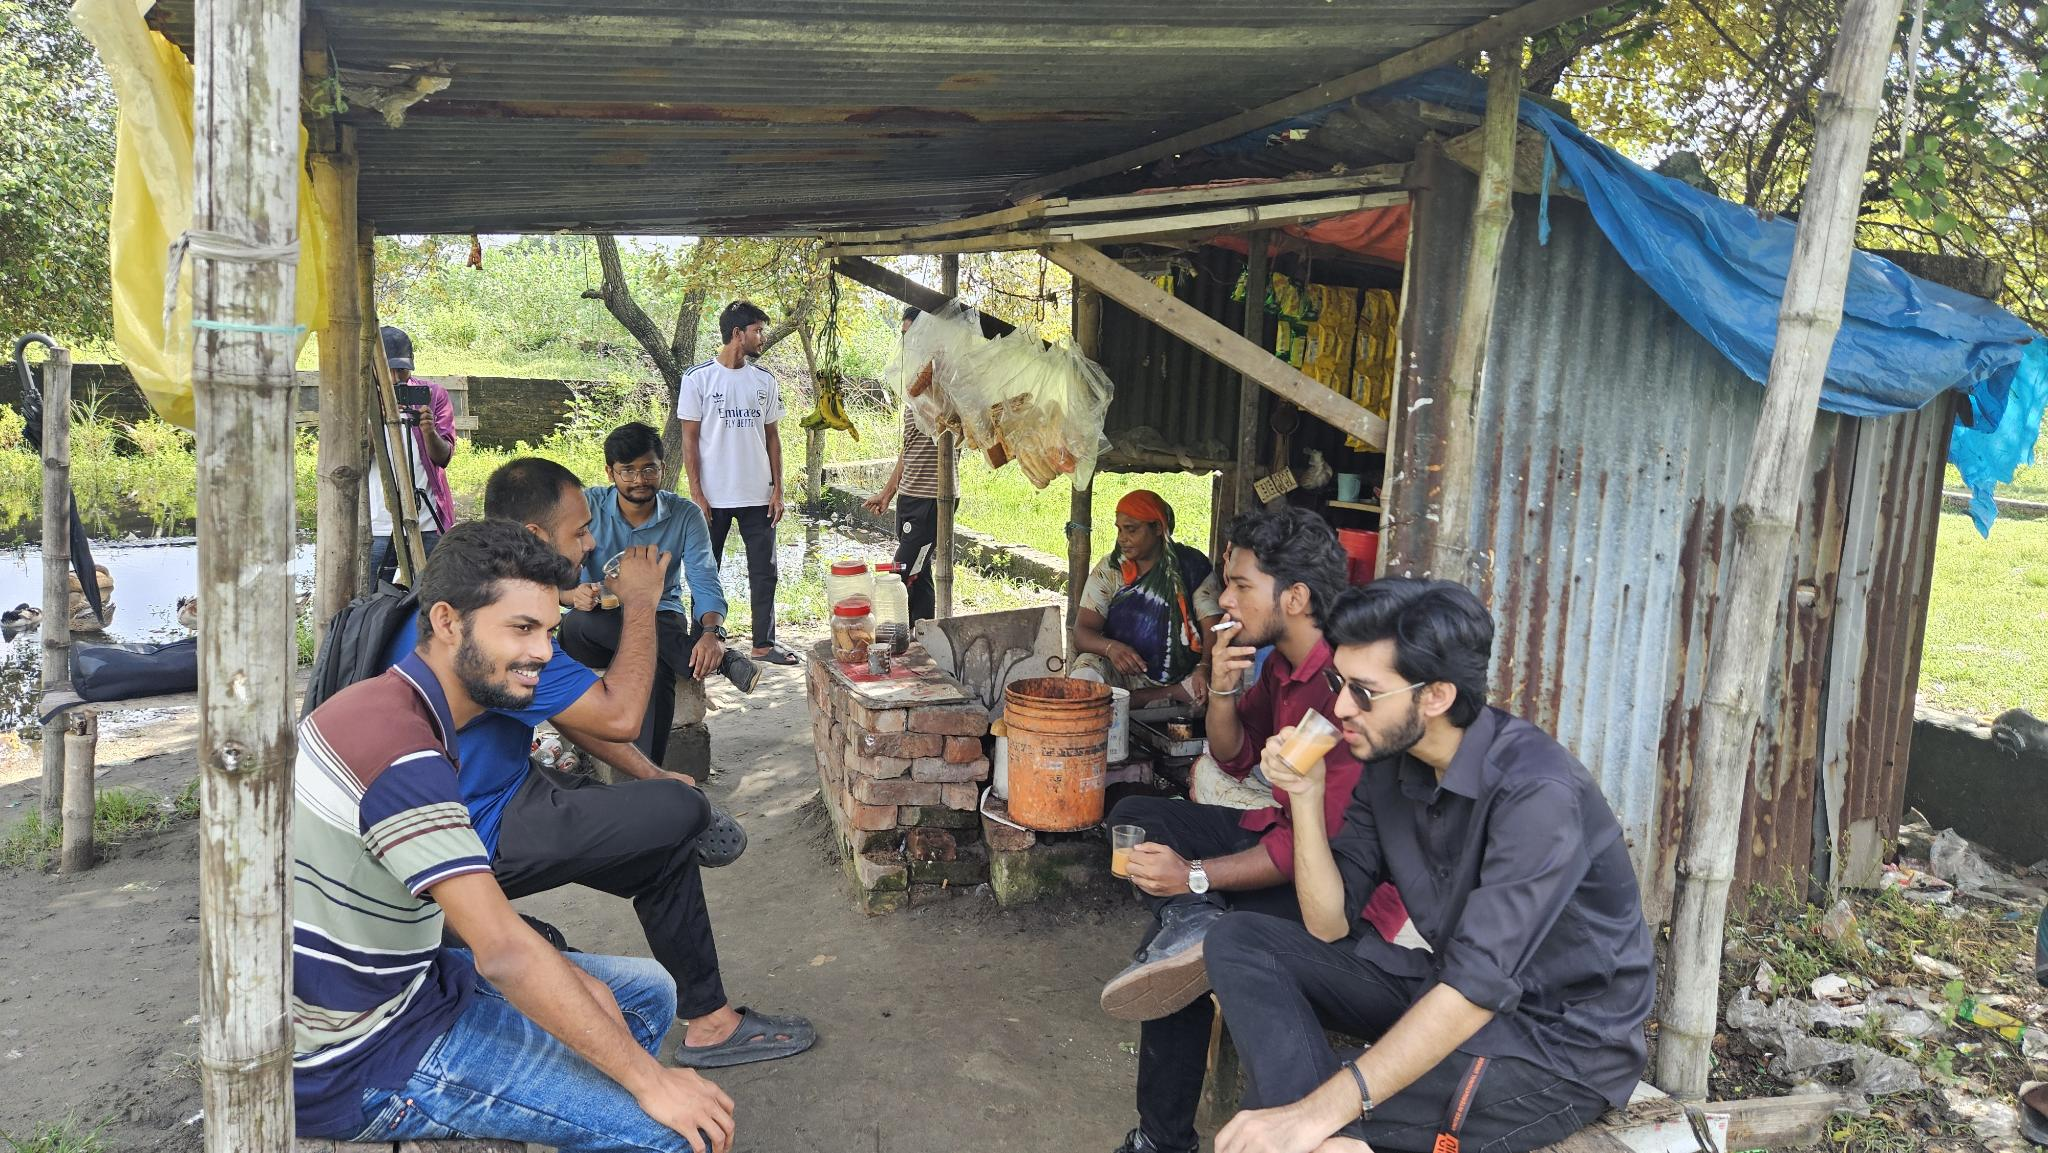cigarette: (1208, 619, 1238, 634)
nonSmoker: (301, 457, 816, 1067), (295, 517, 737, 1153), (1204, 579, 1658, 1153), (561, 420, 761, 764), (679, 302, 796, 665), (1070, 491, 1220, 704)
smoker: (1100, 506, 1349, 1153)
